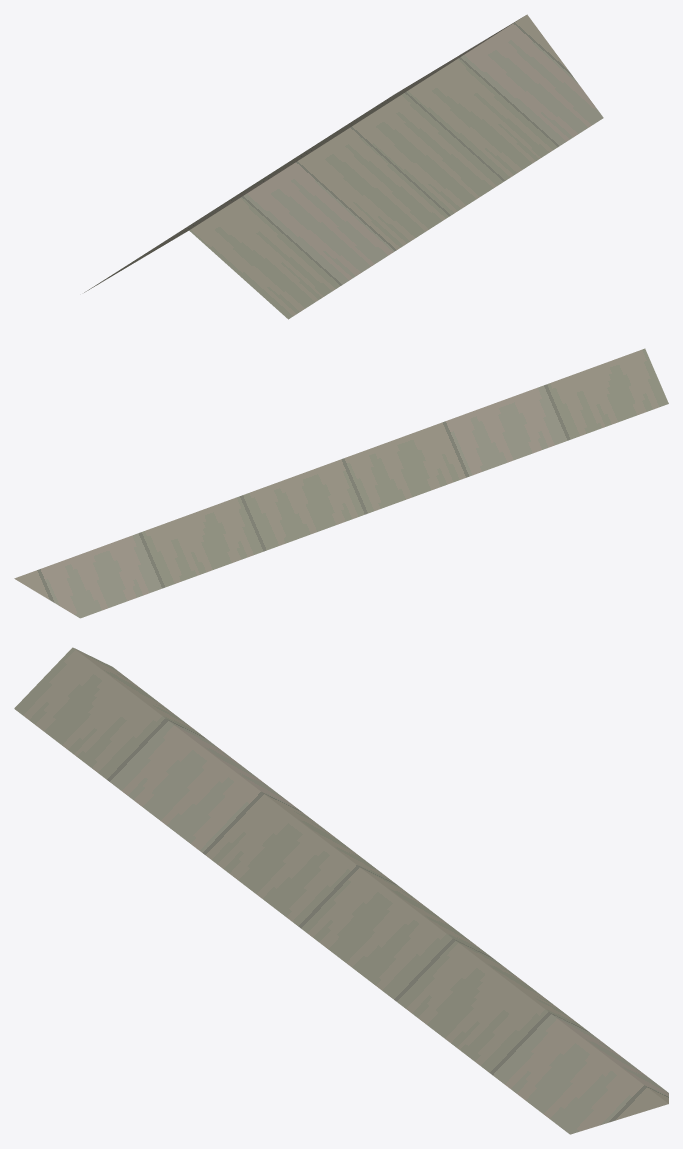
File: kd_stage_135b75_4_94_bounded_portal_piece_2.glb
The picture shows the model from 3 angles, top to bottom: view 1: azimuth 30°, elevation 25°; view 2: azimuth 150°, elevation 25°; view 3: azimuth 270°, elevation 25°; orthographic projection. The views are drawn at different scales.
Visible parts, largest first — view 1: kd_stage_135b75_4_94_bounded_portal_piece_2; view 2: kd_stage_135b75_4_94_bounded_portal_piece_2; view 3: kd_stage_135b75_4_94_bounded_portal_piece_2.
Part boxes in pixels (left/top/right/bottom): kd_stage_135b75_4_94_bounded_portal_piece_2: left=84, top=14, right=603, bottom=319; kd_stage_135b75_4_94_bounded_portal_piece_2: left=14, top=348, right=668, bottom=618; kd_stage_135b75_4_94_bounded_portal_piece_2: left=14, top=647, right=668, bottom=1134.
Bounding box in the file's own units: 1.11 × 0.4419 × 1.11.
Materials: 1 (1 with a texture image).
